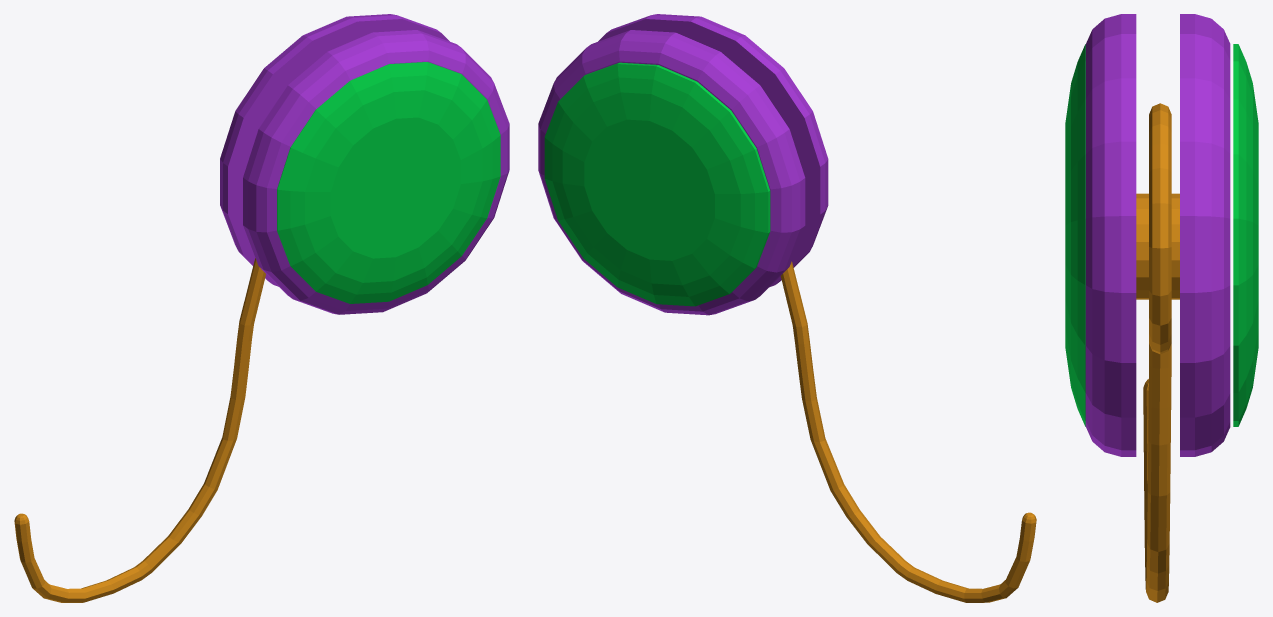
The model's file is yoyo.fbx.
3 views of the same model, side by side, from view 1: azimuth 30°, elevation 25°; view 2: azimuth 150°, elevation 25°; view 3: azimuth 270°, elevation 25° (orthographic). The views are drawn at different scales.
Visible parts, largest first — view 1: Yoyo.006; view 2: Yoyo.006; view 3: Yoyo.006.
Part boxes in pixels (x1,y1,x2,y2): Yoyo.006: (14, 14, 509, 602); Yoyo.006: (538, 14, 1036, 602); Yoyo.006: (1065, 14, 1258, 602).
Size of the model in its own units: 469 by 472 by 111.
